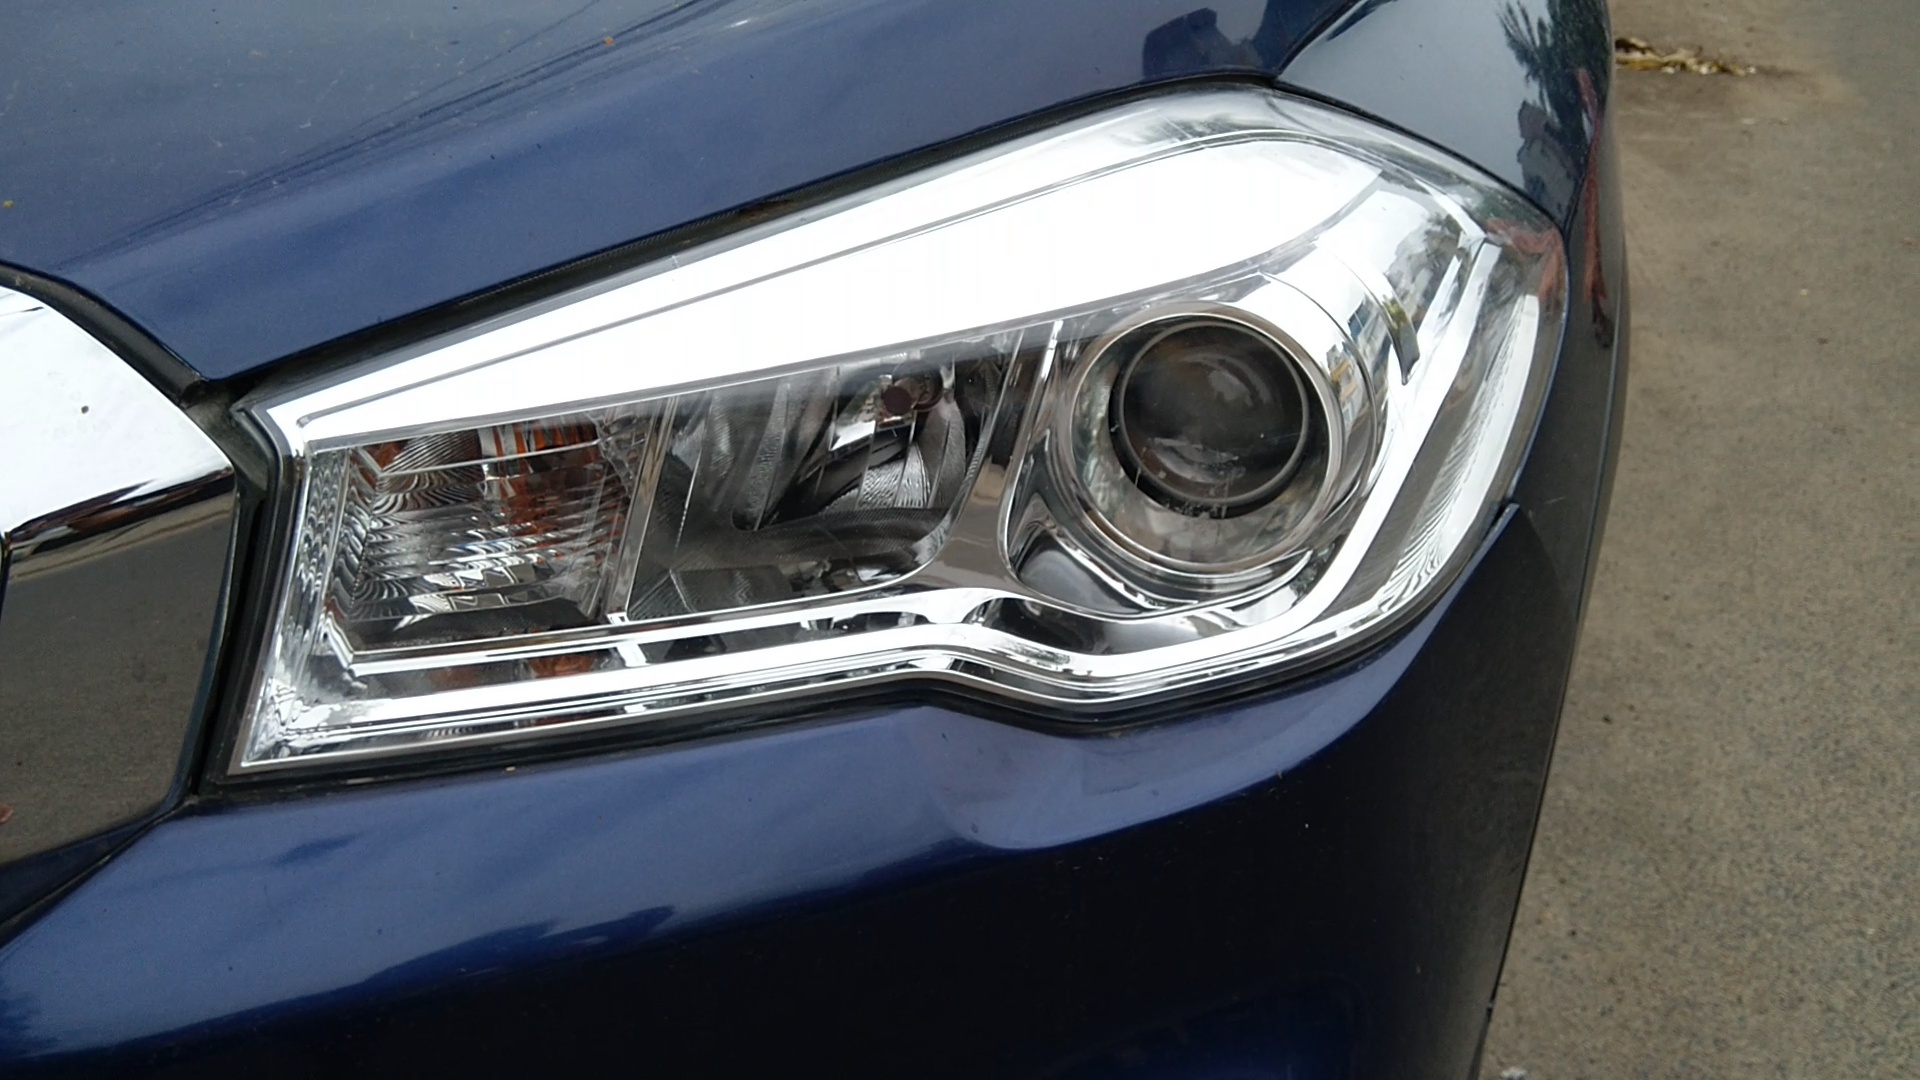headlamp: (181, 47, 1596, 915)
